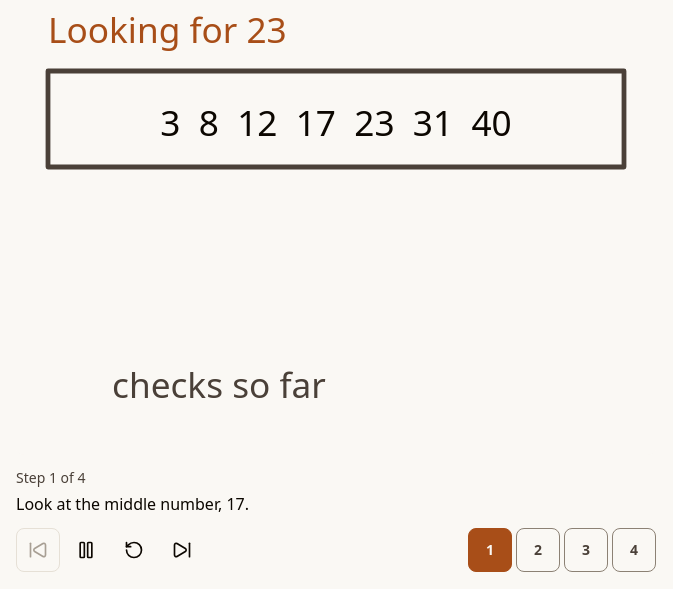
Scenario: Back shows the finished picture of the step before, paused
What coordinates should you click on to do the following:
click the button named "Next"
I would click on:
 (182, 550)
Its box is [160, 528, 204, 572].
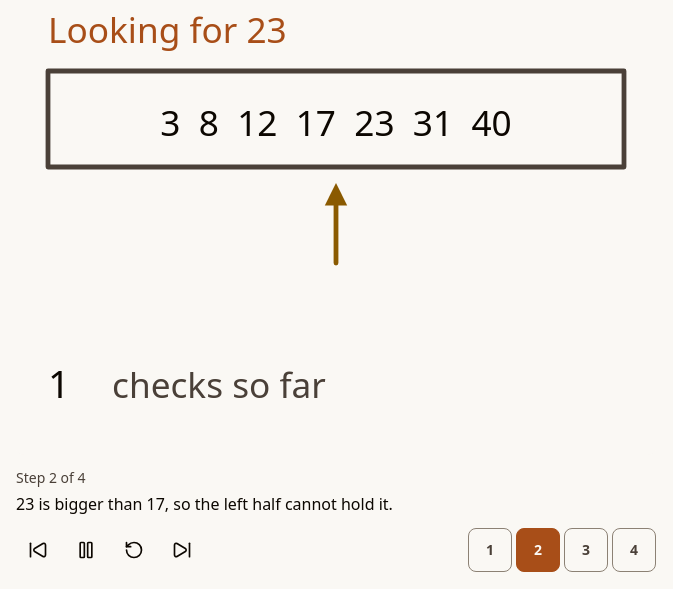
What coordinates should you click on to do the following:
click the button named "Back"
I would click on:
 (38, 550)
Its box is [16, 528, 60, 572].
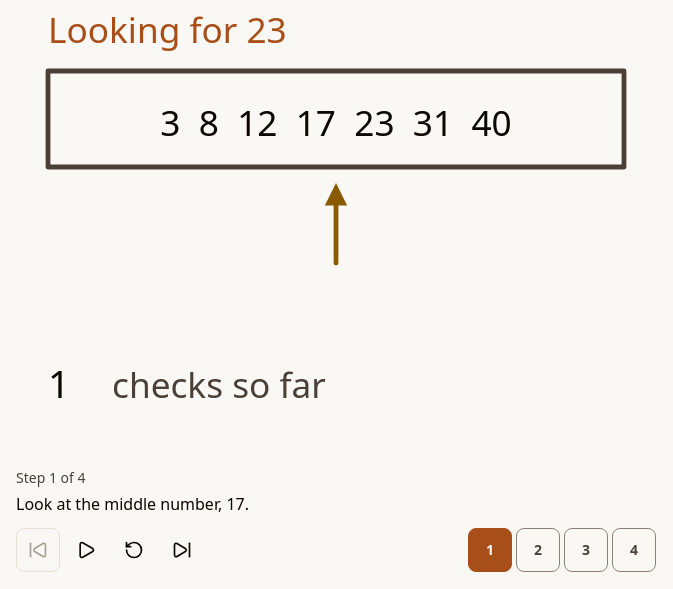
Expected: the text with class "an-caption-text" reads "Look at the middle number, 17.", [16, 493, 249, 515]
Expected: the button named "Play" is shown, [64, 528, 108, 572]
